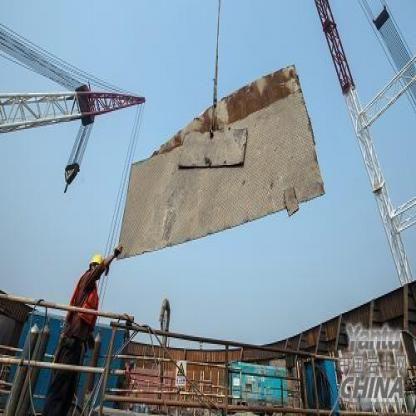helmet: (88, 252, 106, 283)
